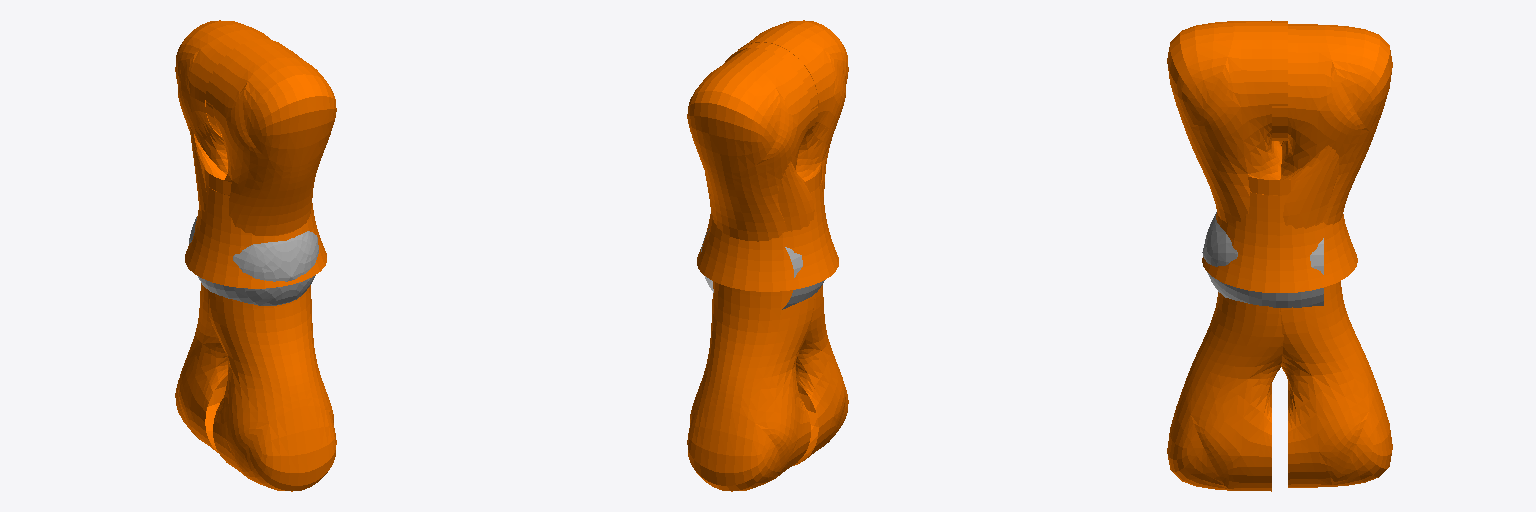
URDF robot description (kuka-lwr):
<?xml version="1.0" ?>
<robot name="kuka-lwr" xmlns:controller="http://playerstage.sourceforge.net/gazebo/xmlschema/#controller" xmlns:interface="http://playerstage.sourceforge.net/gazebo/xmlschema/#interface" xmlns:sensor="http://playerstage.sourceforge.net/gazebo/xmlschema/#sensor" xmlns:xacro="http://www.ros.org/wiki/xacro">
    <material name="DarkGrey">
        <color rgba="0.3 0.3 0.3 1.0" />
    </material>
    <material name="Red">
        <color rgba="0.3 0.3 0.3 1.0" />
    </material>
    <material name="Black">
        <color rgba="0 0 0 1.0" />
    </material>
    <material name="Orange">
        <color rgba="1.0 0.487 0 1.0" />
    </material>
    <material name="Silver">
        <color rgba="1.0 1.0 1.0 1.0" />
    </material>
    <material name="Grey">
        <color rgba="0.7 0.7 0.7 1.0" />
    </material>
    <material name="Blue">
        <color rgba="0.0 0.0 0.8 1.0" />
    </material>
    <material name="HandGray">
        <color rgba="0.953 0.996 0.694 1.0" />
    </material>
    <material name="SickBlue">
        <color rgba="0.3058 0.5921 0.7294 1.0" />
    </material>
    <link name="world" />
    <joint name="arm_world_joint" type="fixed">
        <origin rpy="0 0 0" xyz="0 0 0.01" />
        <parent link="world" />
        <child link="lwr_arm_base_link" />
    </joint>
    <!--link name="world_link">
    <inertial>
      <mass value="50.0"/>
      <com xyz="0 0 0"/>
      <inertia ixx="0.01" ixy="0.00" ixz="0.00" iyy="0.01" iyz="0.00" izz="0.01"/>
    </inertial>
    <visual>
      <origin rpy="0 0 0" xyz="0 0 0.95"/>
      <geometry>
        <box size="0.5 0.5 0.05"/>
      </geometry>
    </visual>
    <collision>
      <origin rpy="0 0 0" xyz="0 0 0.50"/>
      <geometry>
        <box size="0.5 0.5 0.05"/>
      </geometry>
    </collision>
  </link-->
    <!-- First (shoulder) element of the arm. Fixed to its parent. -->
    <!--joint name="world_lwr_arm_base_joint" type="fixed">
    <origin rpy="0 0 0" xyz="0 0 1.1"/>
    <parent link="world_link"/>
    <child link="lwr_arm_base_link"/>
  </joint-->
    <link name="lwr_arm_base_link">
        <inertial>
            <mass value="1.2" />
            <origin rpy="0 0 0" xyz="0 0 0.055" />
            <inertia ixx="0.00229" ixy="0" ixz="0" iyy="0.00216" iyz="0" izz="0.00229" />
        </inertial>
        <visual>
            <origin rpy="0 0 0" xyz="0 0 0" />
            <geometry>
                <mesh filename="package://quadruped_robot/kuka-lwr-4plus/kuka4_description/meshes/arm_base.stl" scale="100 100 100" />
            </geometry>
            <material name="Orange" />
        </visual>
        <collision>
            <origin rpy="0 0 0" xyz="0 0 0.01" />
            <geometry>
                <mesh filename="package://quadruped_robot/kuka-lwr-4plus/kuka4_description/meshes/arm_base.stl" scale="0.9 0.9 0.9" />
            </geometry>
        </collision>
    </link>
    
    
    <gazebo reference="lwr_arm_base_link">
        <!--<material value="kuka-lwr.material"/>-->
    </gazebo>
    
    <joint name="lwr_arm_0_joint" type="revolute">
        <origin rpy="0 0 0" xyz="0 0 0.11" />
        <axis xyz="0 0 1" />
        <limit effort="204" lower="-2.96705972839" upper="2.96705972839" velocity="1.91986217719" />
        <safety_controller k_position="100" k_velocity="2" soft_lower_limit="-2.93215314335" soft_upper_limit="2.93215314335" />
        <dynamics damping="5.0" />
        <parent link="lwr_arm_base_link" />
        <child link="lwr_arm_1_link" />
    </joint>
    
    <gazebo reference="lwr_arm_0_joint">
        <provideFeedback>1</provideFeedback>
        <implicitSpringDamper>1</implicitSpringDamper>
    </gazebo>
    
    <transmission name="lwr_arm_0_trans" type="SimpleTransmission">
        <actuator name="lwr_arm_0_motor" />
        <joint name="lwr_arm_0_joint" />
        <mechanicalReduction>1.0</mechanicalReduction>
    </transmission>
    
    
    <link name="lwr_arm_1_link">
        <inertial>
            <mass value="2.0" />
            <origin rpy="0 0 0" xyz="0 0 0.130" />
            <inertia ixx="0.0136666666667" ixy="0" ixz="0" iyy="0.0118666666667" iyz="0" izz="0.003" />
        </inertial>
        <visual>
            <origin rpy="0 0 3.14159265359" xyz="0 0 0" />
            <geometry>
                <mesh filename="package://quadruped_robot/kuka-lwr-4plus/kuka4_description/meshes/arm_segment_a.stl" scale="100 100 100" />
            </geometry>
            <material name="Orange" />
        </visual>
        <collision>
            <origin rpy="0 0 3.14159265359" xyz="0 0 0" />
            <geometry>
                <mesh filename="package://quadruped_robot/kuka-lwr-4plus/kuka4_description/meshes/convex/arm_segment_a_convex.stl" scale="1.0 1.0 1.0" />
            </geometry>
        </collision>
    </link>
    <gazebo reference="lwr_arm_1_link">
        <!--<material value="kuka-lwr.material"/>-->
    </gazebo>
    <joint name="lwr_arm_1_joint" type="revolute">
        <origin rpy="0 0 0" xyz="0 0 0.20" />
        <axis xyz="0 -1 0" />
        <limit effort="306" lower="-2.09439510239" upper="2.09439510239" velocity="1.91986217719" />
        <safety_controller k_position="100" k_velocity="2" soft_lower_limit="-2.05948851735" soft_upper_limit="2.05948851735" />
        <dynamics damping="5.0" />
        <parent link="lwr_arm_1_link" />
        <child link="lwr_arm_2_link" />
    </joint>
    <gazebo reference="lwr_arm_1_joint">
        <provideFeedback>1</provideFeedback>
        <implicitSpringDamper>1</implicitSpringDamper>
    </gazebo>
    <transmission name="lwr_arm_1_trans" type="pr2_mechanism_model/SimpleTransmission">
        <actuator name="lwr_arm_1_motor" />
        <joint name="lwr_arm_1_joint" />
        <mechanicalReduction>1.0</mechanicalReduction>
    </transmission>
    <link name="lwr_arm_2_link">
        <inertial>
            <mass value="2.0" />
            <origin rpy="0 0 0" xyz="0 -0.06 0.07" />
            <inertia ixx="0.0136666666667" ixy="0" ixz="0" iyy="0.0118666666667" iyz="0" izz="0.003" />
        </inertial>
        <visual>
            <origin rpy="3.14159265359 0 3.14159265359" xyz="0 0 0.2" />
            <geometry>
                <mesh filename="package://quadruped_robot/kuka-lwr-4plus/kuka4_description/meshes/arm_segment_b.stl" scale="100 100 100" />
            </geometry>
            <material name="Orange" />
        </visual>
        <collision>
            <origin rpy="3.14159265359 0 3.14159265359" xyz="0 0 0.2" />
            <geometry>
                <mesh filename="package://quadruped_robot/kuka-lwr-4plus/kuka4_description/meshes/convex/arm_segment_b_convex.stl" scale="1.0 1.0 1.0" />
            </geometry>
        </collision>
    </link>
    <gazebo reference="lwr_arm_2_link">
        <!--<material value="kuka-lwr.material"/>-->
    </gazebo>
    <joint name="lwr_arm_2_joint" type="revolute">
        <origin rpy="0 0 0" xyz="0 0 0.20" />
        <axis xyz="0 0 1" />
        <limit effort="204" lower="-2.96705972839" upper="2.96705972839" velocity="2.26892802759" />
        <safety_controller k_position="100" k_velocity="2" soft_lower_limit="-2.93215314335" soft_upper_limit="2.93215314335" />
        <dynamics damping="3.0" />
        <parent link="lwr_arm_2_link" />
        <child link="lwr_arm_3_link" />
    </joint>
    <gazebo reference="lwr_arm_2_joint">
        <provideFeedback>1</provideFeedback>
        <implicitSpringDamper>1</implicitSpringDamper>
    </gazebo>
    <transmission name="lwr_arm_2_trans" type="SimpleTransmission">
        <actuator name="lwr_arm_2_motor" />
        <joint name="lwr_arm_2_joint" />
        <mechanicalReduction>1.0</mechanicalReduction>
    </transmission>
    <link name="lwr_arm_3_link">
        <inertial>
            <mass value="2.0" />
            <origin rpy="0 0 0" xyz="0 -0.06 0.130" />
            <inertia ixx="0.0136666666667" ixy="0" ixz="0" iyy="0.0118666666667" iyz="0" izz="0.003" />
        </inertial>
        <visual>
            <origin rpy="0 0 0" xyz="0 0 0" />
            <geometry>
                <mesh filename="package://quadruped_robot/kuka-lwr-4plus/kuka4_description/meshes/arm_segment_a.stl" scale="100 100 100" />
            </geometry>
            <material name="Orange" />
        </visual>
        <collision>
            <origin rpy="0 0 0" xyz="0 0 0" />
            <geometry>
                <mesh filename="package://quadruped_robot/kuka-lwr-4plus/kuka4_description/meshes/convex/arm_segment_a_convex.stl" scale="1.0 1.0 1.0" />
            </geometry>
        </collision>
    </link>
    <gazebo reference="lwr_arm_3_link">
        <!--<material value="kuka-lwr.material"/>-->
    </gazebo>
    <joint name="lwr_arm_3_joint" type="revolute">
        <origin rpy="0 0 0" xyz="0 0 0.20" />
        <axis xyz="0 1 0" />
        <limit effort="306" lower="-2.09439510239" upper="2.09439510239" velocity="2.26892802759" />
        <safety_controller k_position="100" k_velocity="2" soft_lower_limit="-2.05948851735" soft_upper_limit="2.05948851735" />
        <dynamics damping="3.0" />
        <parent link="lwr_arm_3_link" />
        <child link="lwr_arm_4_link" />
    </joint>
    <gazebo reference="lwr_arm_3_joint">
        <provideFeedback>1</provideFeedback>
        <implicitSpringDamper>1</implicitSpringDamper>
    </gazebo>
    <transmission name="lwr_arm_3_trans" type="SimpleTransmission">
        <actuator name="lwr_arm_3_motor" />
        <joint name="lwr_arm_3_joint" />
        <mechanicalReduction>1.0</mechanicalReduction>
    </transmission>
    <link name="lwr_arm_4_link">
        <inertial>
            <mass value="2.0" />
            <origin rpy="0 0 0" xyz="0 0.06 0.07" />
            <inertia ixx="0.0136666666667" ixy="0" ixz="0" iyy="0.0118666666667" iyz="0" izz="0.003" />
        </inertial>
        <visual>
            <origin rpy="0 3.14159265359 3.14159265359" xyz="0 0 0.2" />
            <geometry>
                <mesh filename="package://quadruped_robot/kuka-lwr-4plus/kuka4_description/meshes/arm_segment_b.stl" scale="100 100 100" />
            </geometry>
            <material name="Orange" />
        </visual>
        <collision>
            <origin rpy="0 3.14159265359 3.14159265359" xyz="0 0 0.2" />
            <geometry>
                <mesh filename="package://quadruped_robot/kuka-lwr-4plus/kuka4_description/meshes/convex/arm_segment_b_convex.stl" scale="1.0 1.0 1.0" />
            </geometry>
        </collision>
    </link>
    <gazebo reference="lwr_arm_4_link">
        <!--<material value="kuka-lwr.material"/>-->
    </gazebo>
    <joint name="lwr_arm_4_joint" type="revolute">
        <origin rpy="0 0 0" xyz="0 0 0.20" />
        <axis xyz="0 0 1" />
        <limit effort="204" lower="-2.96705972839" upper="2.96705972839" velocity="2.26892802759" />
        <safety_controller k_position="100" k_velocity="2" soft_lower_limit="-2.93215314335" soft_upper_limit="2.93215314335" />
        <dynamics damping="1.0" />
        <parent link="lwr_arm_4_link" />
        <child link="lwr_arm_5_link" />
    </joint>
    <gazebo reference="lwr_arm_4_joint">
        <provideFeedback>1</provideFeedback>
        <implicitSpringDamper>1</implicitSpringDamper>
    </gazebo>
    <transmission name="lwr_arm_4_trans" type="SimpleTransmission">
        <actuator name="lwr_arm_4_motor" />
        <joint name="lwr_arm_4_joint" />
        <mechanicalReduction>1.0</mechanicalReduction>
    </transmission>
    <link name="lwr_arm_5_link">
        <inertial>
            <mass value="2.0" />
            <origin rpy="0 0 0" xyz="0 0 0.124" />
            <inertia ixx="0.0126506666667" ixy="0" ixz="0" iyy="0.0108506666667" iyz="0" izz="0.003" />
        </inertial>
        <visual>
            <origin rpy="0 0 3.14159265359" xyz="0 0 0" />
            <geometry name="lwr_arm_5_geom">
                <mesh filename="package://quadruped_robot/kuka-lwr-4plus/kuka4_description/meshes/arm_segment_last.stl" scale="100 100 100" />
            </geometry>
            <material name="Orange" />
        </visual>
        <collision>
            <origin rpy="0 0 3.14159265359" xyz="0 0 0" />
            <geometry>
                <mesh filename="package://quadruped_robot/kuka-lwr-4plus/kuka4_description/meshes/convex/arm_segment_last_convex.stl" scale="1.0 1.0 1.0" />
            </geometry>
        </collision>
    </link>
    <gazebo reference="lwr_arm_5_link">
        <!--<material value="kuka-lwr.material"/>-->
    </gazebo>
    <joint name="lwr_arm_5_joint" type="revolute">
        <origin rpy="0 0 0" xyz="0 0 0.19" />
        <axis xyz="0 -1 0" />
        <limit effort="306" lower="-2.09439510239" upper="2.09439510239" velocity="3.14159265359" />
        <safety_controller k_position="100" k_velocity="2" soft_lower_limit="-2.05948851735" soft_upper_limit="2.05948851735" />
        <dynamics damping="1.0" />
        <parent link="lwr_arm_5_link" />
        <child link="lwr_arm_6_link" />
    </joint>
    <gazebo reference="lwr_arm_5_joint">
        <provideFeedback>1</provideFeedback>
        <implicitSpringDamper>1</implicitSpringDamper>
    </gazebo>
    <transmission name="lwr_arm_5_trans" type="SimpleTransmission">
        <actuator name="lwr_arm_5_motor" />
        <joint name="lwr_arm_5_joint" />
        <mechanicalReduction>1.0</mechanicalReduction>
    </transmission>
    <link name="lwr_arm_6_link">
        <inertial>
            <mass value="1.0" />
            <origin rpy="0 0 0" xyz="0 0 0.0" />
            <inertia ixx="0.00260416666667" ixy="0" ixz="0" iyy="0.00260416666667" iyz="0" izz="0.00260416666667" />
        </inertial>
        <visual>
            <origin rpy="0 0 3.14159265359" xyz="0 0 0" />
            <geometry>
                <mesh filename="package://quadruped_robot/kuka-lwr-4plus/kuka4_description/meshes/arm_wrist.stl" scale="100 100 100" />
            </geometry>
            <material name="Grey" />
        </visual>
        <collision>
            <origin rpy="0 0 3.14159265359" xyz="0 0 0" />
            <geometry>
                <mesh filename="package://quadruped_robot/kuka-lwr-4plus/kuka4_description/meshes/convex/arm_wrist_convex.stl" scale="1.0 1.0 1.0" />
            </geometry>
        </collision>
    </link>
    <gazebo reference="lwr_arm_6_link">
        <!--<material value="kuka-lwr.material"/>-->
    </gazebo>
    <joint name="lwr_arm_6_joint" type="revolute">
        <origin rpy="0 0 0" xyz="0 0 0.078" />
        <axis xyz="0 0 1" />
        <limit effort="204" lower="-2.96705972839" upper="2.96705972839" velocity="3.14159265359" />
        <safety_controller k_position="100" k_velocity="2" soft_lower_limit="-2.93215314335" soft_upper_limit="2.93215314335" />
        <dynamics damping="1.0" />
        <parent link="lwr_arm_6_link" />
        <child link="lwr_arm_7_link" />
    </joint>
    <gazebo reference="lwr_arm_6_joint">
        <provideFeedback>1</provideFeedback>
        <implicitSpringDamper>1</implicitSpringDamper>
    </gazebo>
    <transmission name="lwr_arm_6_trans" type="SimpleTransmission">
        <actuator name="lwr_arm_6_motor" />
        <joint name="lwr_arm_6_joint" />
        <mechanicalReduction>1.0</mechanicalReduction>
    </transmission>
    <link name="lwr_arm_7_link">
        <inertial>
            <mass value="0.2" />
            <origin xyz="0 0 0" />
            <inertia ixx="6.66666666667e-05" ixy="0" ixz="0" iyy="6.66666666667e-05" iyz="0" izz="0.00012" />
        </inertial>
        <visual>
            <origin rpy="0 0 0" xyz="0 0 0" />
            <geometry>
                <mesh filename="package://quadruped_robot/kuka-lwr-4plus/kuka4_description/meshes/arm_flanche.stl" scale="100 100 100" />
            </geometry>
            <material name="Grey" />
        </visual>
        <collision>
            <origin rpy="0 0 0" xyz="0 0 0" />
            <geometry>
                <!--mesh filename="package://quadruped_robot/kuka-lwr-4plus/kuka4_description/meshes/convex/arm_flanche_convex.stl" scale="1.0 1.0 1.0"/-->
                <mesh filename="package://quadruped_robot/kuka-lwr-4plus/kuka4_description/meshes/arm_flanche.stl" scale="100 100 100" />
            </geometry>
            <surface>
                <friction>
                    <ode>
                        <mu>0.0</mu>
                        <mu2>0.0</mu2>
                    </ode>
                </friction>
            </surface>
        </collision>
    </link>
    <gazebo reference="lwr_arm_7_link">
        <!--<material value="kuka-lwr.material"/>-->
    </gazebo>
    <!--joint name="lwr_arm_hand_fixed_joint" type="fixed">
    <parent link="lwr_arm_7_link"/>
    <child link="lwr_tool_mount"/>
  </joint>
  <link name="lwr_tool_mount"/-->
    <!--xacro:lwr_arm_gazebo_controller namespace="" prefix="lwr" port="49938"/-->
    <origin xyz="0 0 0" rpy="0 0 0" />
</robot>

--- What the picture shows (computed from the rendered views, not written in the file) ---
3 views of the same robot in one strip: view 1: azimuth 30°, elevation 25°; view 2: azimuth 150°, elevation 25°; view 3: azimuth 270°, elevation 25° (orthographic).
Robot: kuka-lwr — 9 links, 8 joints (7 revolute, 1 fixed); root link world; default pose: all joints at 0.
Links seen in each view (by area): view 1: lwr_arm_2_link, lwr_arm_3_link, lwr_arm_base_link, lwr_arm_1_link, lwr_arm_4_link, lwr_arm_6_link, lwr_arm_5_link; view 2: lwr_arm_4_link, lwr_arm_1_link, lwr_arm_base_link, lwr_arm_3_link, lwr_arm_2_link, lwr_arm_5_link, lwr_arm_6_link; view 3: lwr_arm_3_link, lwr_arm_2_link, lwr_arm_4_link, lwr_arm_1_link, lwr_arm_base_link, lwr_arm_5_link, lwr_arm_6_link.
Link boxes in pixels (<box>): lwr_arm_2_link: <box>209,285,336,491</box>; lwr_arm_3_link: <box>206,39,336,235</box>; lwr_arm_base_link: <box>185,169,326,288</box>; lwr_arm_1_link: <box>175,20,270,174</box>; lwr_arm_4_link: <box>175,283,227,452</box>; lwr_arm_6_link: <box>189,217,318,305</box>; lwr_arm_5_link: <box>189,100,226,211</box>; lwr_arm_4_link: <box>687,281,814,491</box>; lwr_arm_1_link: <box>687,48,817,241</box>; lwr_arm_base_link: <box>697,166,838,291</box>; lwr_arm_3_link: <box>725,20,848,196</box>; lwr_arm_2_link: <box>793,285,848,465</box>; lwr_arm_5_link: <box>705,161,814,231</box>; lwr_arm_6_link: <box>701,229,824,309</box>; lwr_arm_3_link: <box>1167,20,1287,223</box>; lwr_arm_2_link: <box>1167,292,1283,491</box>; lwr_arm_4_link: <box>1280,281,1392,487</box>; lwr_arm_1_link: <box>1272,24,1392,224</box>; lwr_arm_base_link: <box>1202,141,1357,292</box>; lwr_arm_5_link: <box>1273,142,1338,228</box>; lwr_arm_6_link: <box>1202,212,1323,307</box>.
Bounding box of the posed robot: 16.01 × 23.19 × 52.11 m (x, y, z).
8 mesh visuals loaded from 6 distinct referenced files (6 binary STL).